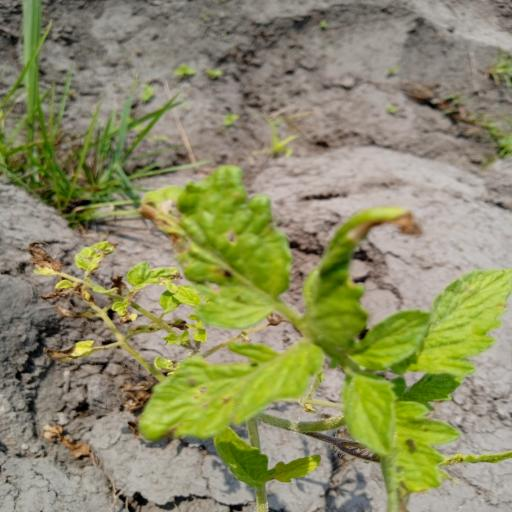Tomato_Brown_Spots: (137, 160, 301, 332)
